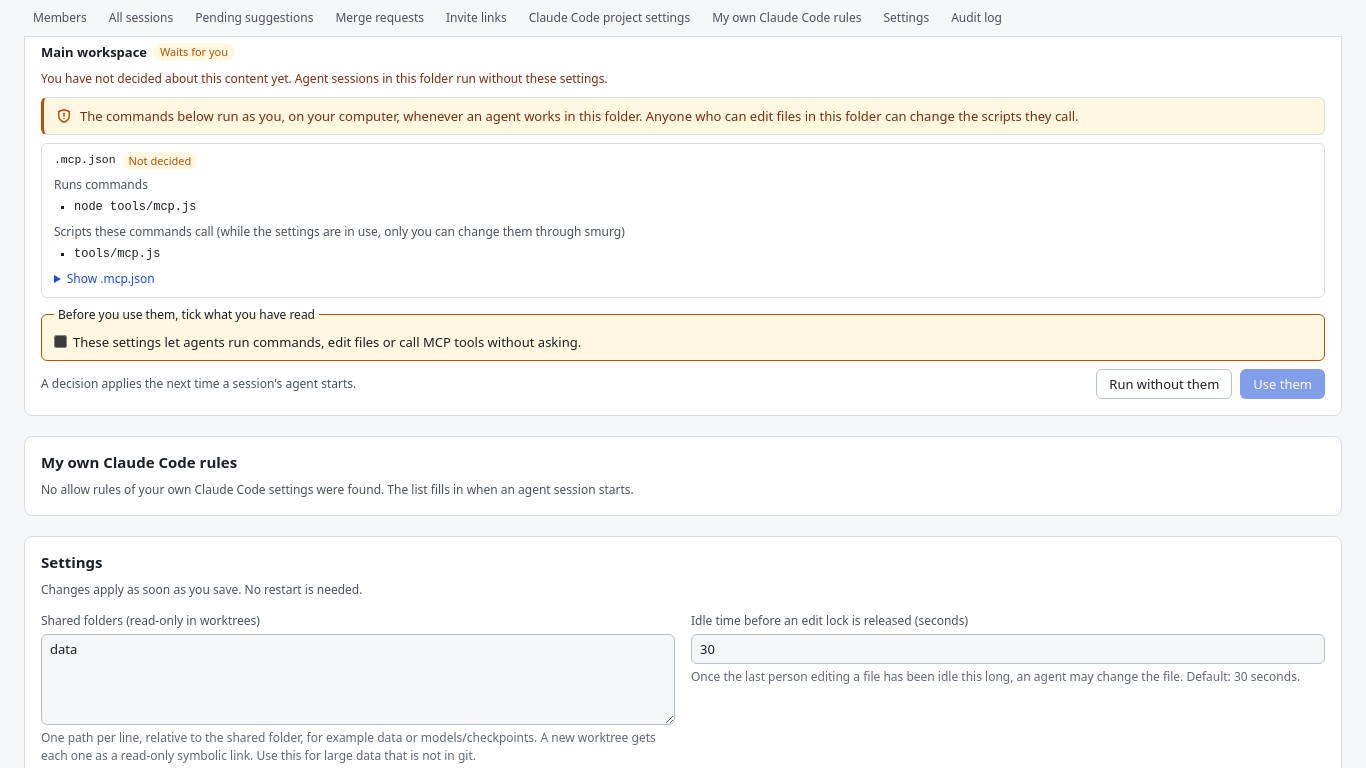
Test: host console: Claude Code project settings › "Run without them" needs no tick; the sessions then run without the settings and without the project's CLAUDE.md
(page scrolled)
Click the button "Run without them". click: (1164,384)
box: [1096,369,1232,399]
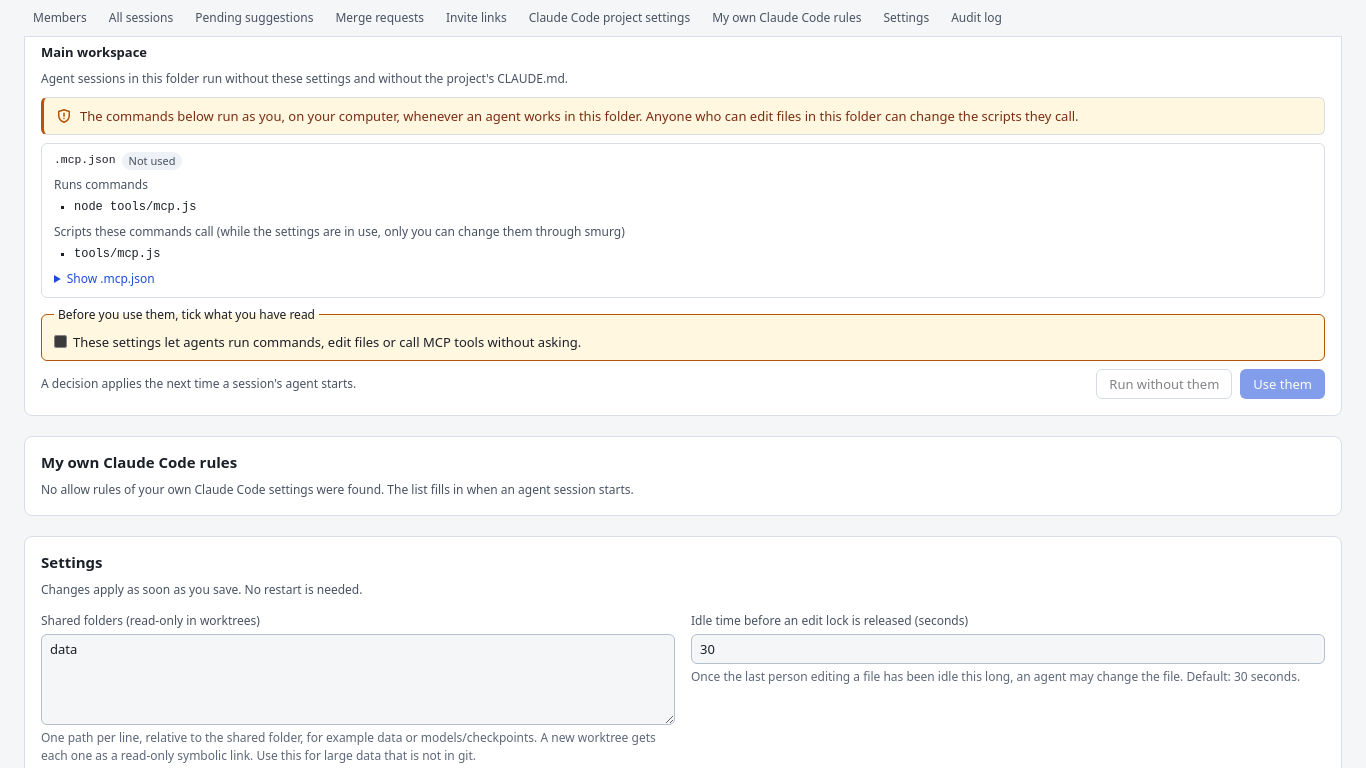
Result: the text "Agent sessions in this folder run without these settings and without the project's CLAUDE.md." is shown at [41,70,568,87]
Result: the text "Not used" is shown at [122,152,182,170]
Result: the button "Run without them" is disabled at [1096,369,1232,399]
